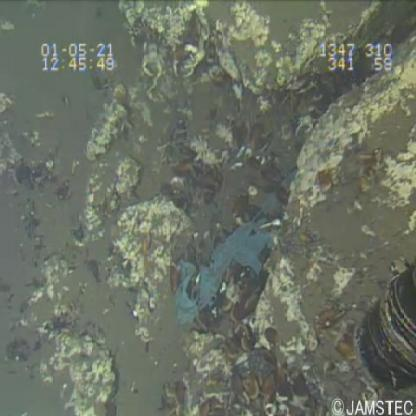Rov: (351, 252, 416, 401)
Rác: (170, 186, 284, 332)
